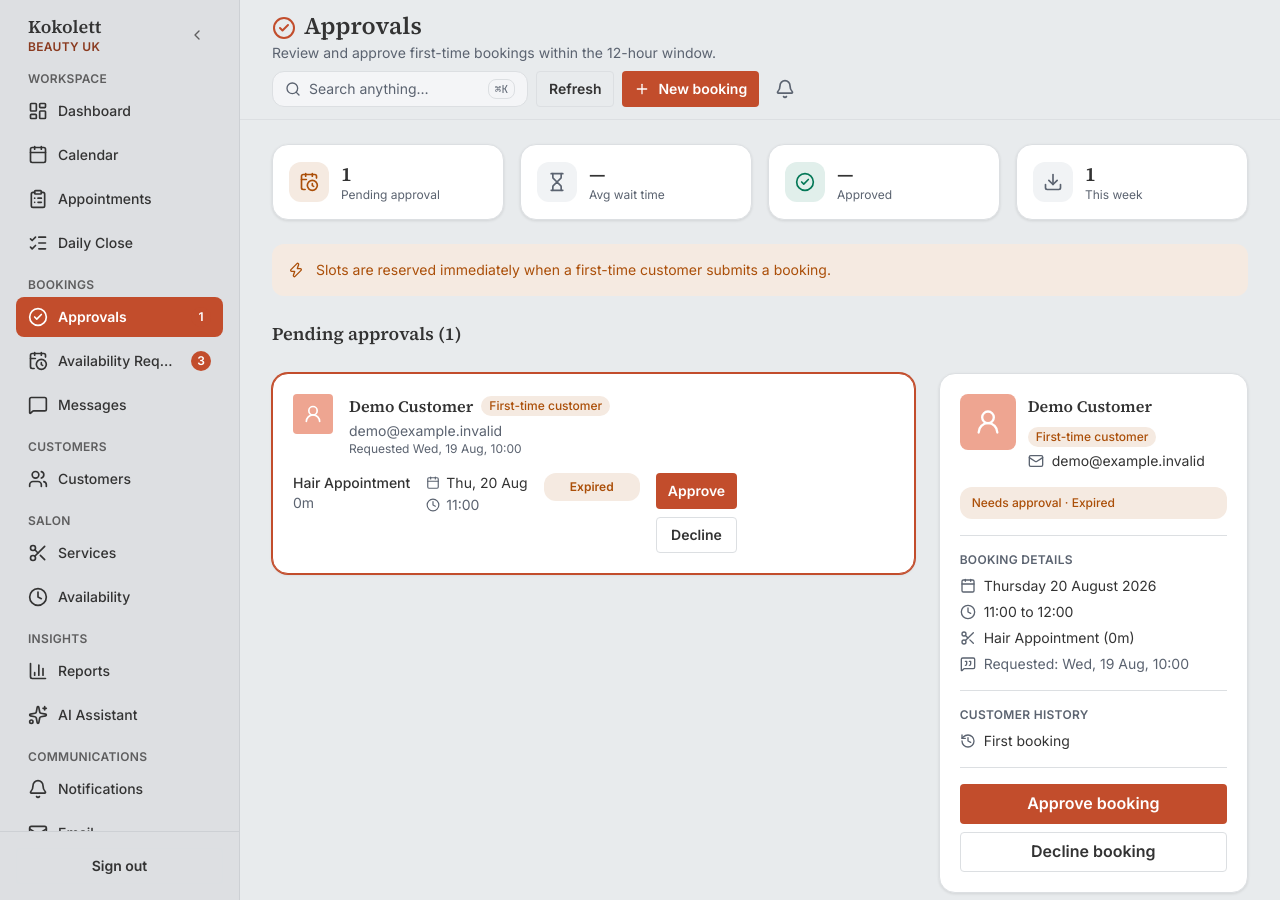
Scenario: InboxPage — default tab freeze › does not swap from Approvals to Requests when the last pending approval is approved
Expected: the 1st text "Demo Customer" is shown, left=349, top=394, right=473, bottom=419
What coordinates should you click on to do the following:
click the button "Approve booking"
I would click on:
 (1093, 804)
Its box is left=960, top=784, right=1227, bottom=824.
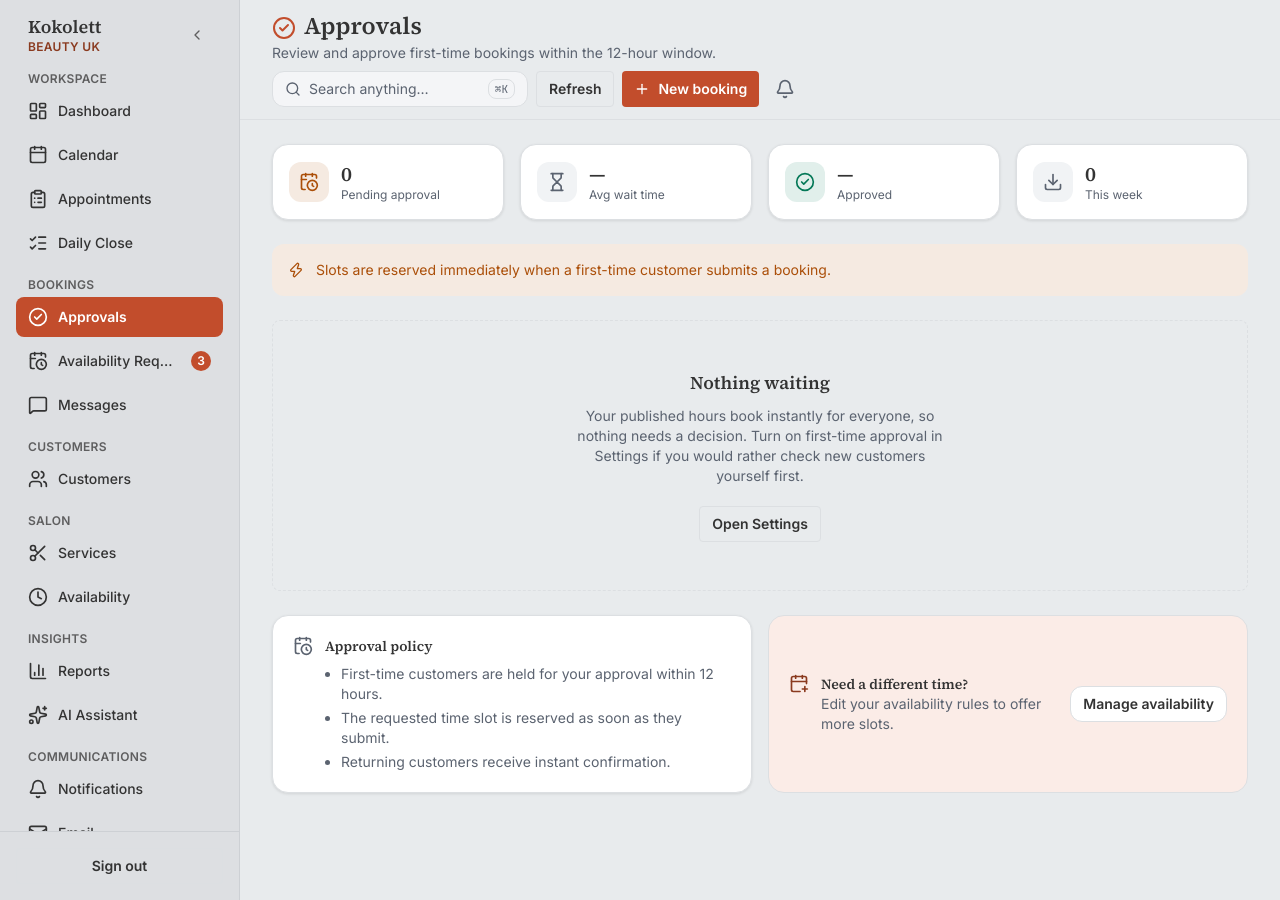
Expected: the text "Approvals" below "Daily Close" is shown, left=58, top=308, right=127, bottom=324
Now the text "Your published hours book instantly for everyone" is shown, box left=577, top=407, right=943, bottom=484
